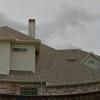Chimney: (21, 11, 48, 48)
